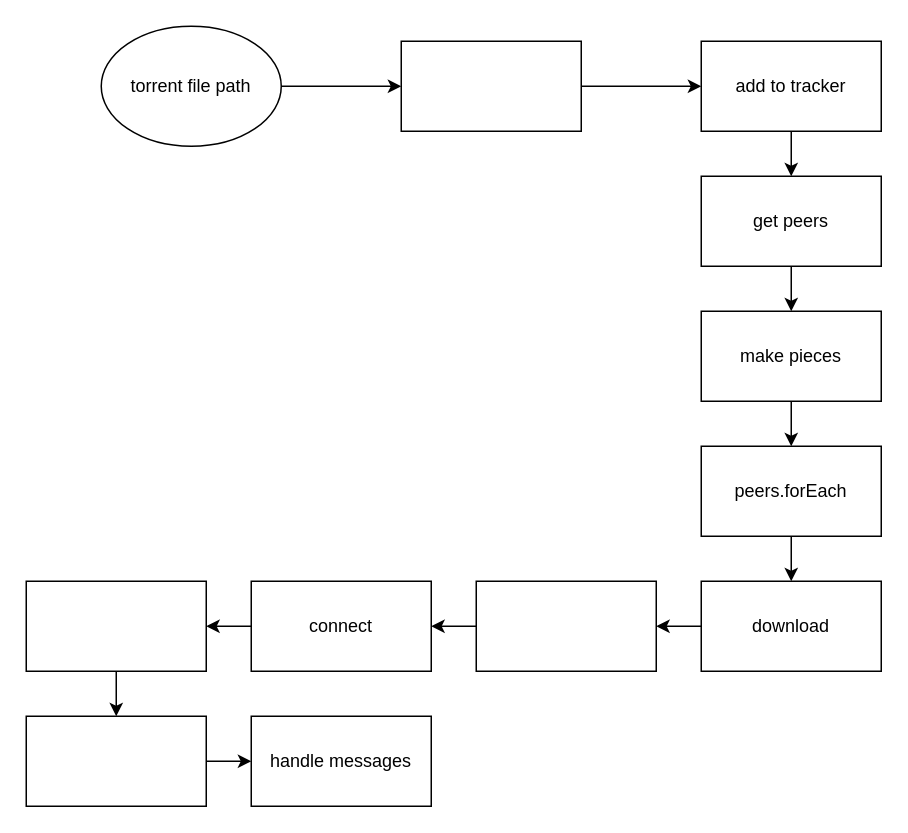
This 908x833 diagram has some shape labels left out. The centre of each missing label's shape, as x and y in pixels:
"build handshake" belongs at point (115, 625).
"make queue" belongs at point (115, 760).
"make socket" belongs at point (565, 625).
"parse file contents" belongs at point (490, 85).
